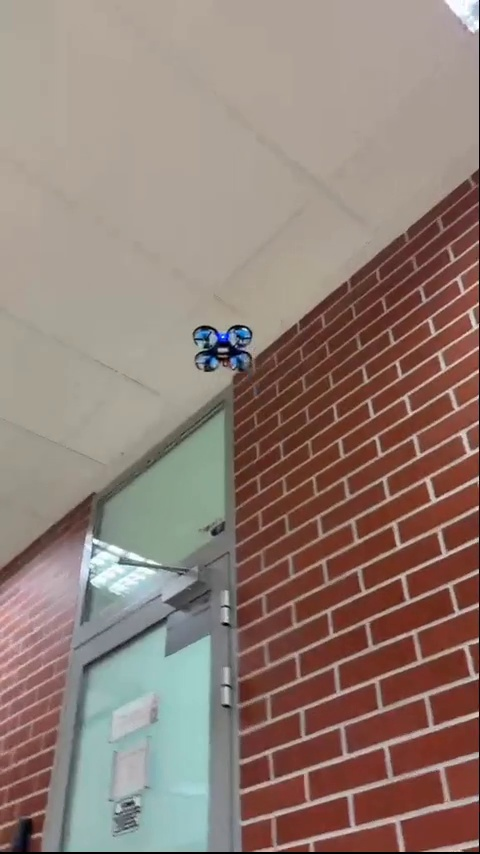drone: (191, 327, 262, 375)
